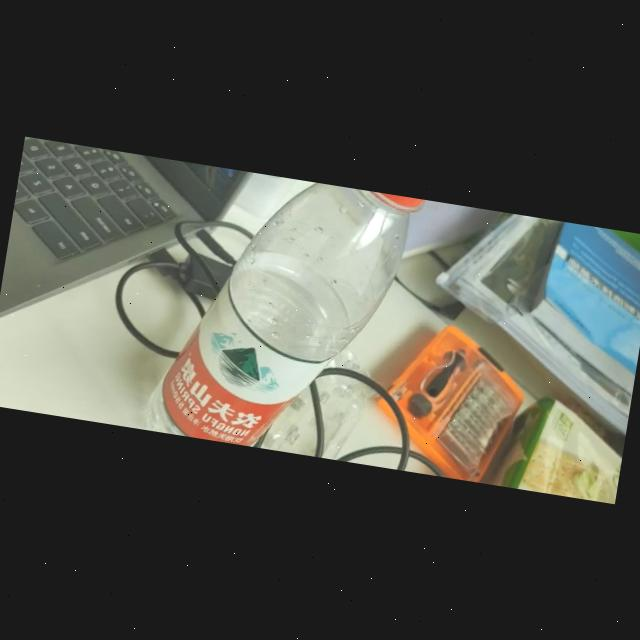trash: (139, 160, 432, 468)
